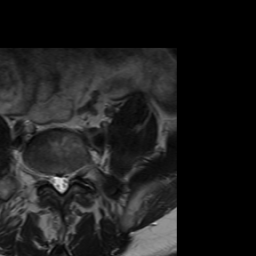CCS_normal: (57, 167, 63, 199)
LFS_normal: (71, 162, 80, 190)
LLS_normal: (63, 168, 71, 196)
RFS_normal: (42, 166, 50, 191)
RLS_normal: (50, 169, 57, 193)
